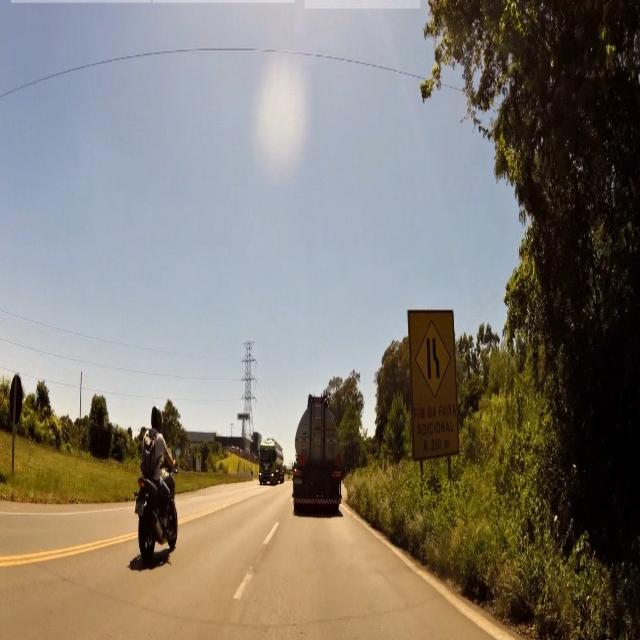A-21c: (415, 322, 452, 392)
